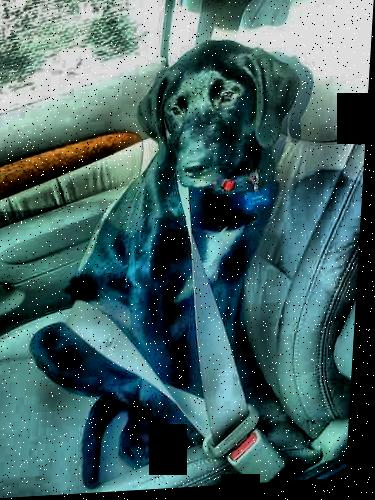seatbelt: (51, 162, 302, 466)
